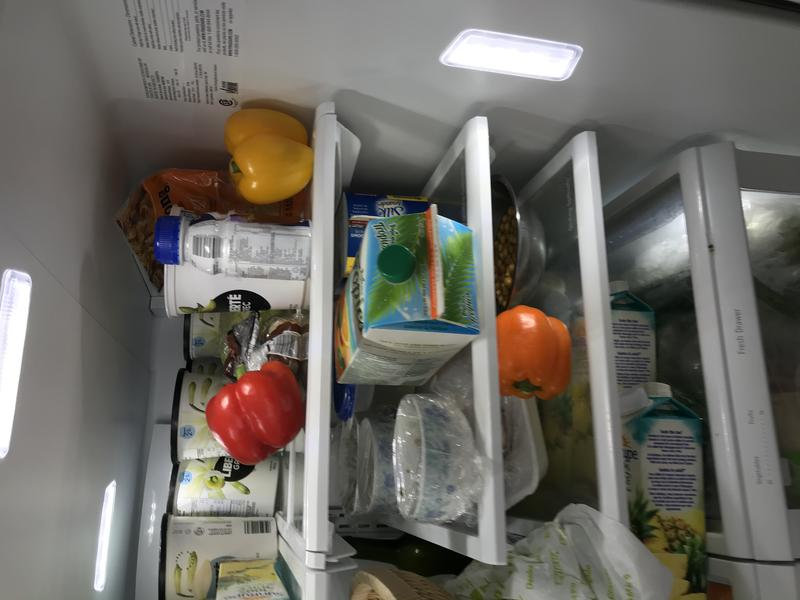orange_pepper: (481, 297, 578, 412)
red_pepper: (193, 359, 312, 466)
yellow_pepper: (211, 93, 323, 206)
